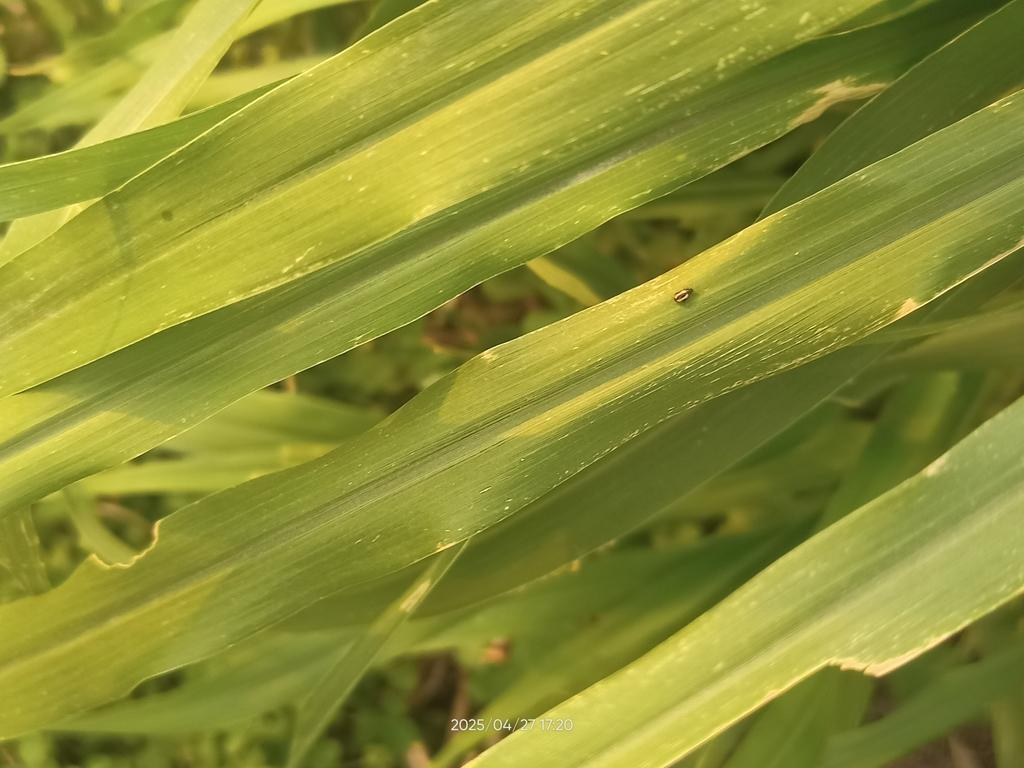flea_beetle: (669, 274, 706, 313)
